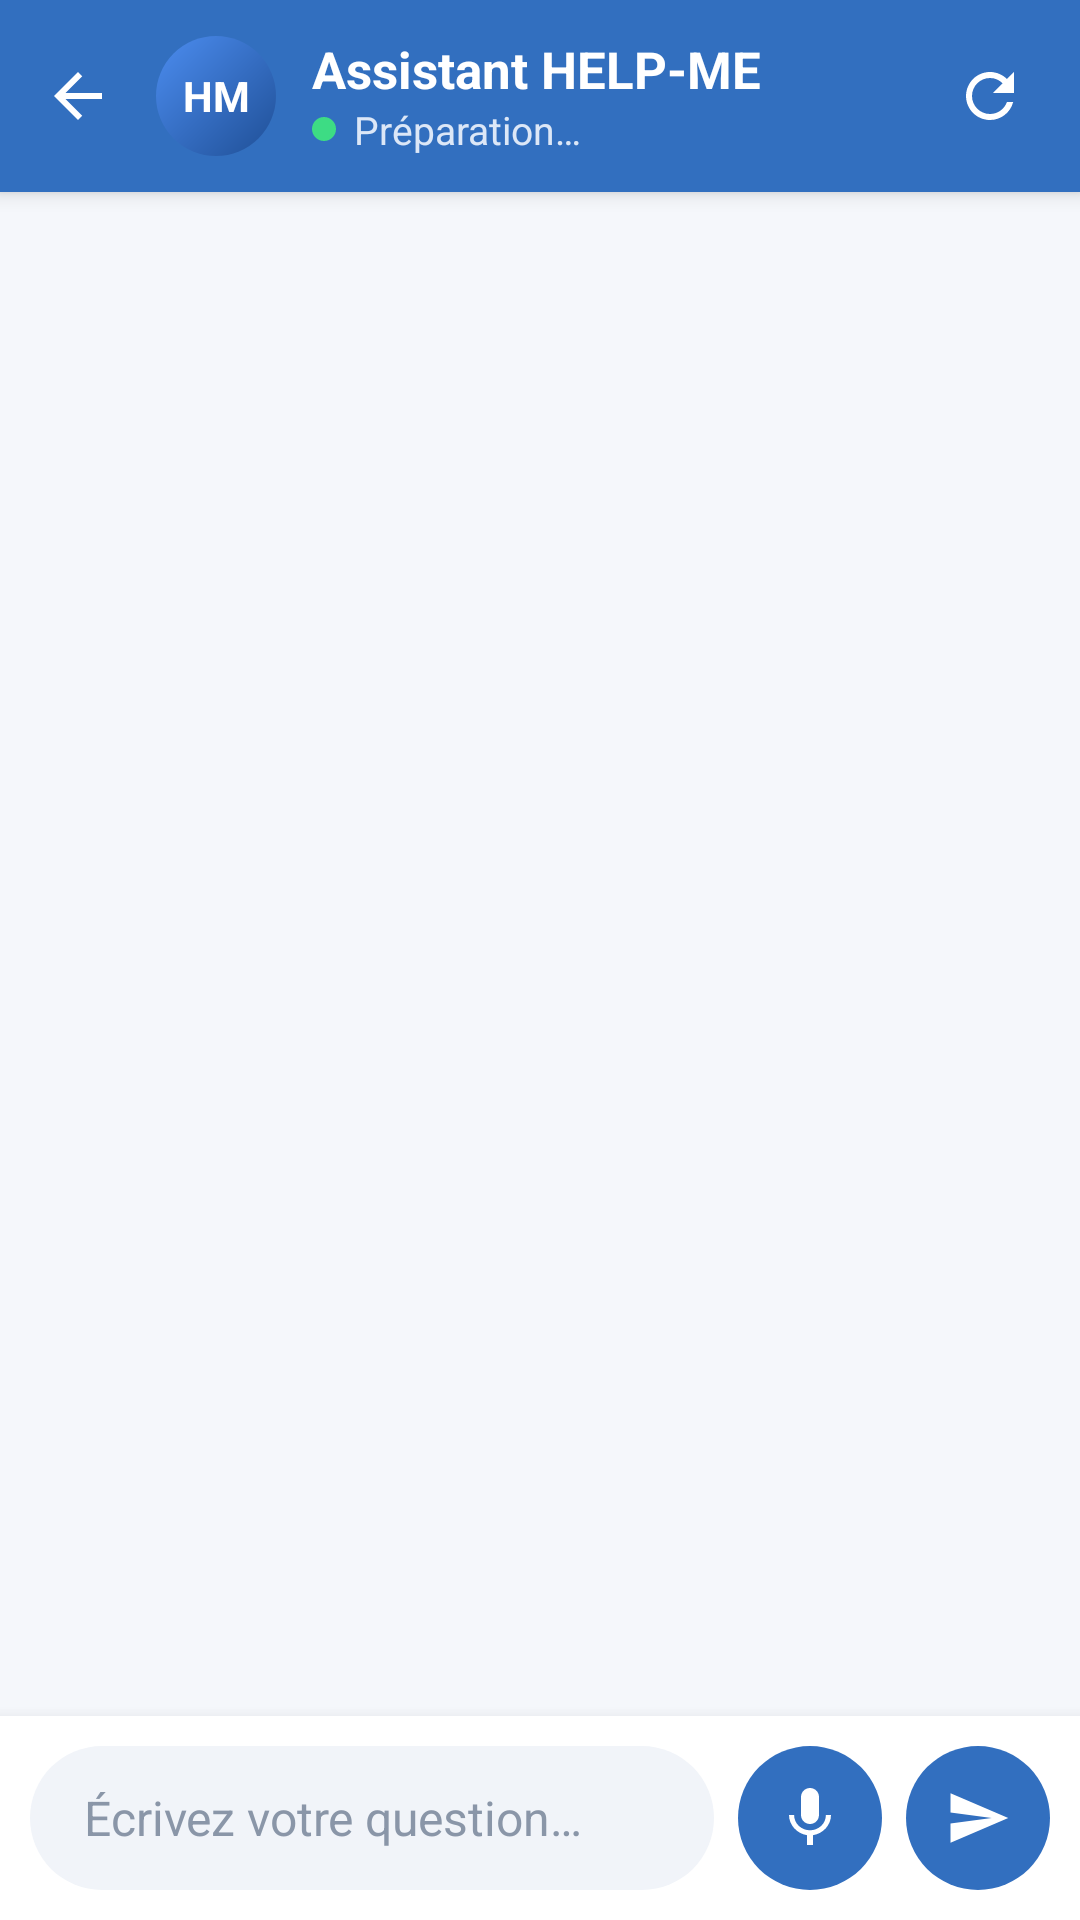

Point at icon controls on the screen. Image size 1080*1920, points as (x=x, y=y).
Dicter la question: (x=810, y=1818)
Envoyer: (x=978, y=1818)
Nouvelle conversation: (x=990, y=96)
Retour: (x=78, y=96)
